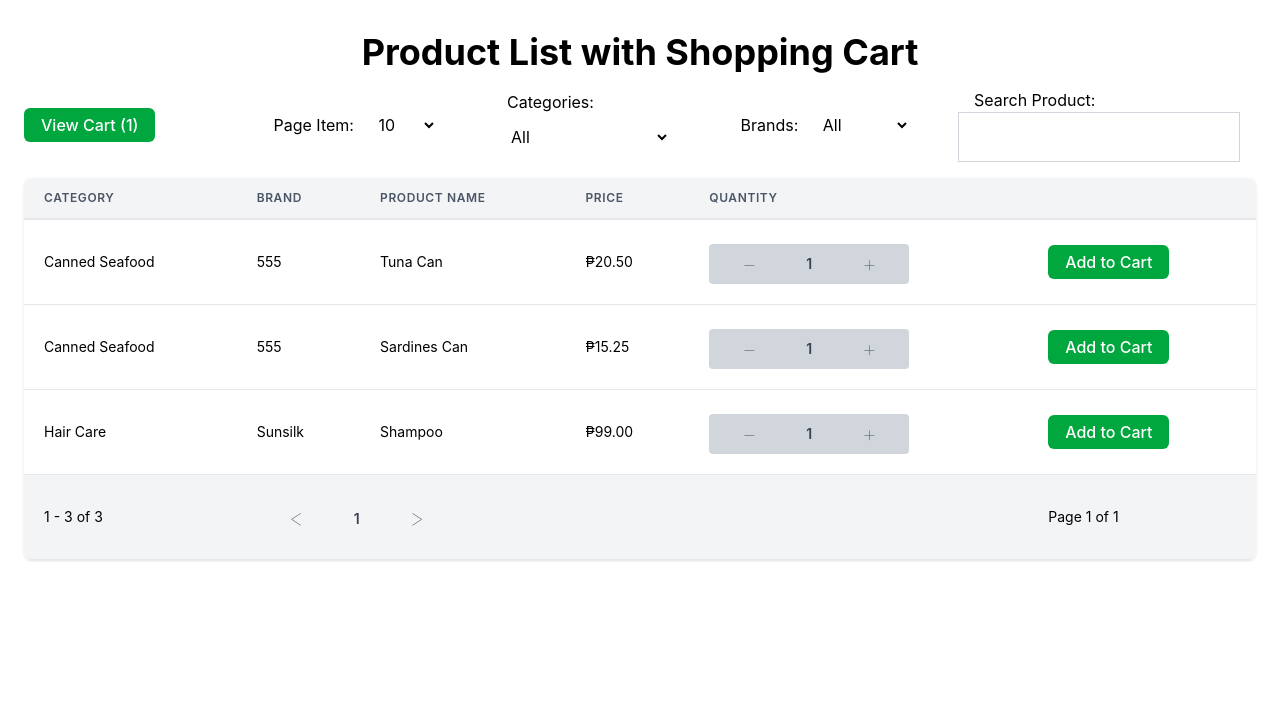
it: decrementing a cart item at quantity 1 removes it
Step 1. Click the button "View Cart (1)" → coordinates (90, 125), box [24,108,156,142]
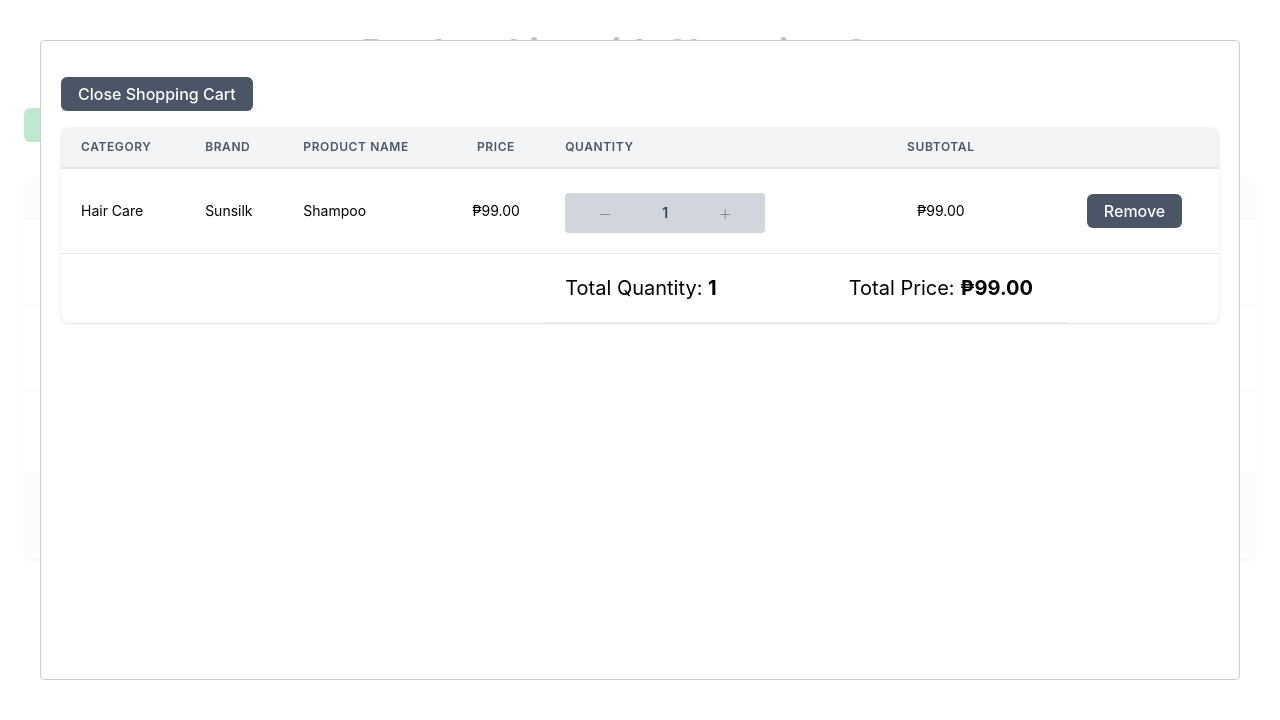
Step 2. Click the button named "Decrease quantity" → coordinates (605, 213), box [565,193,645,233]
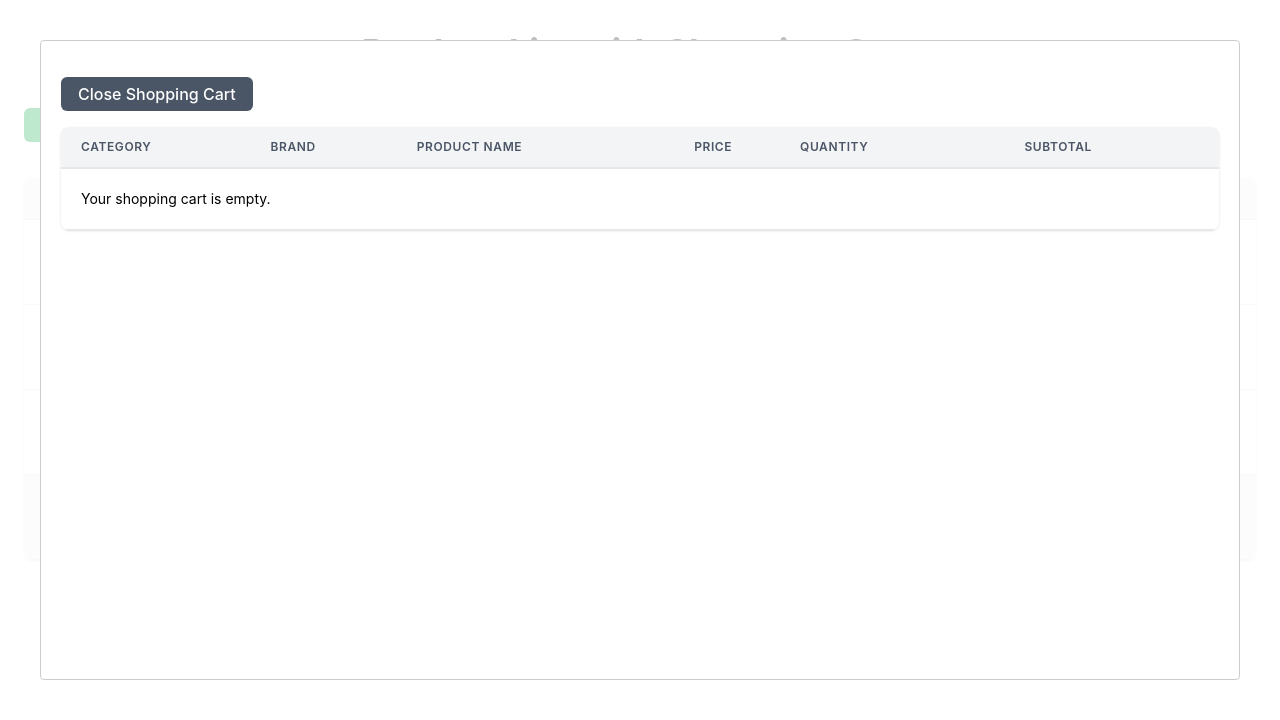
Check: the text "Your shopping cart is empty." is shown, box [61,168,1219,230]
